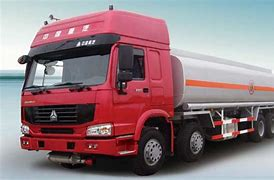oil truck: (17, 9, 273, 174)
